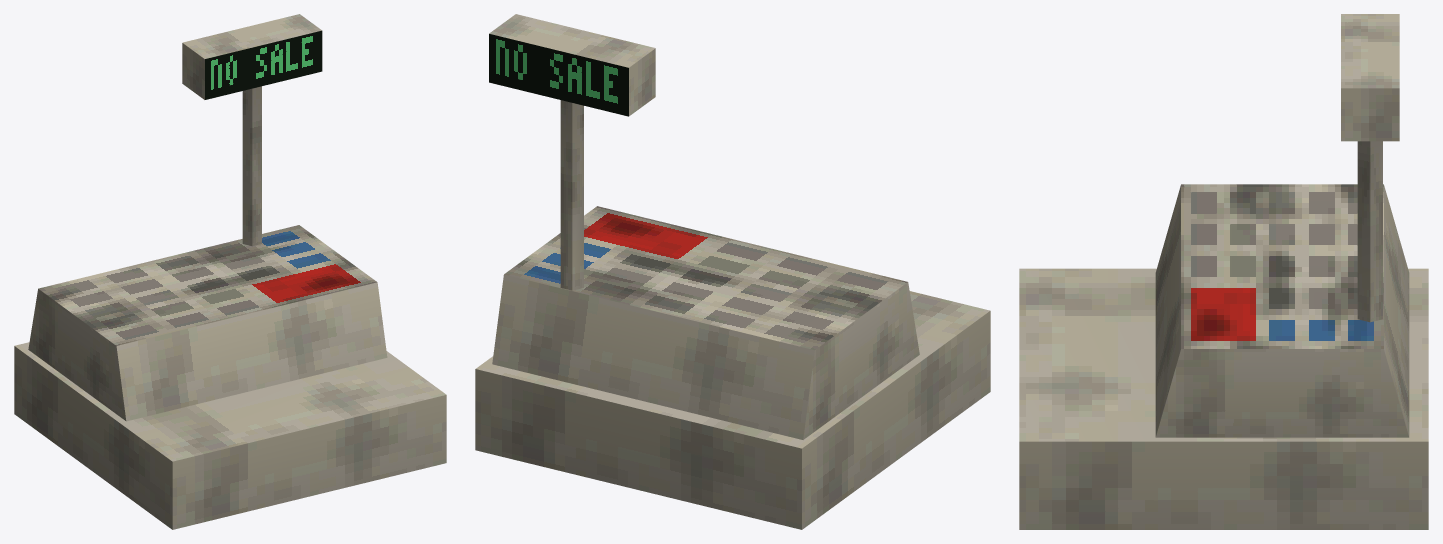
The model's file is register.glb.
3 renders of one model, left to right at view 1: azimuth 30°, elevation 25°; view 2: azimuth 150°, elevation 25°; view 3: azimuth 270°, elevation 25°, orthographic. The views are drawn at different scales.
Parts seen in each view (by area): view 1: register; view 2: register; view 3: register.
Boxes of the visible parts, x1,y1,x2,y2 form: register: (14,14,446,529); register: (475,14,990,529); register: (1019,14,1428,529).
Bounding box in the file's own units: 0.42 × 0.5 × 0.42.
2 materials, 2 textured.
